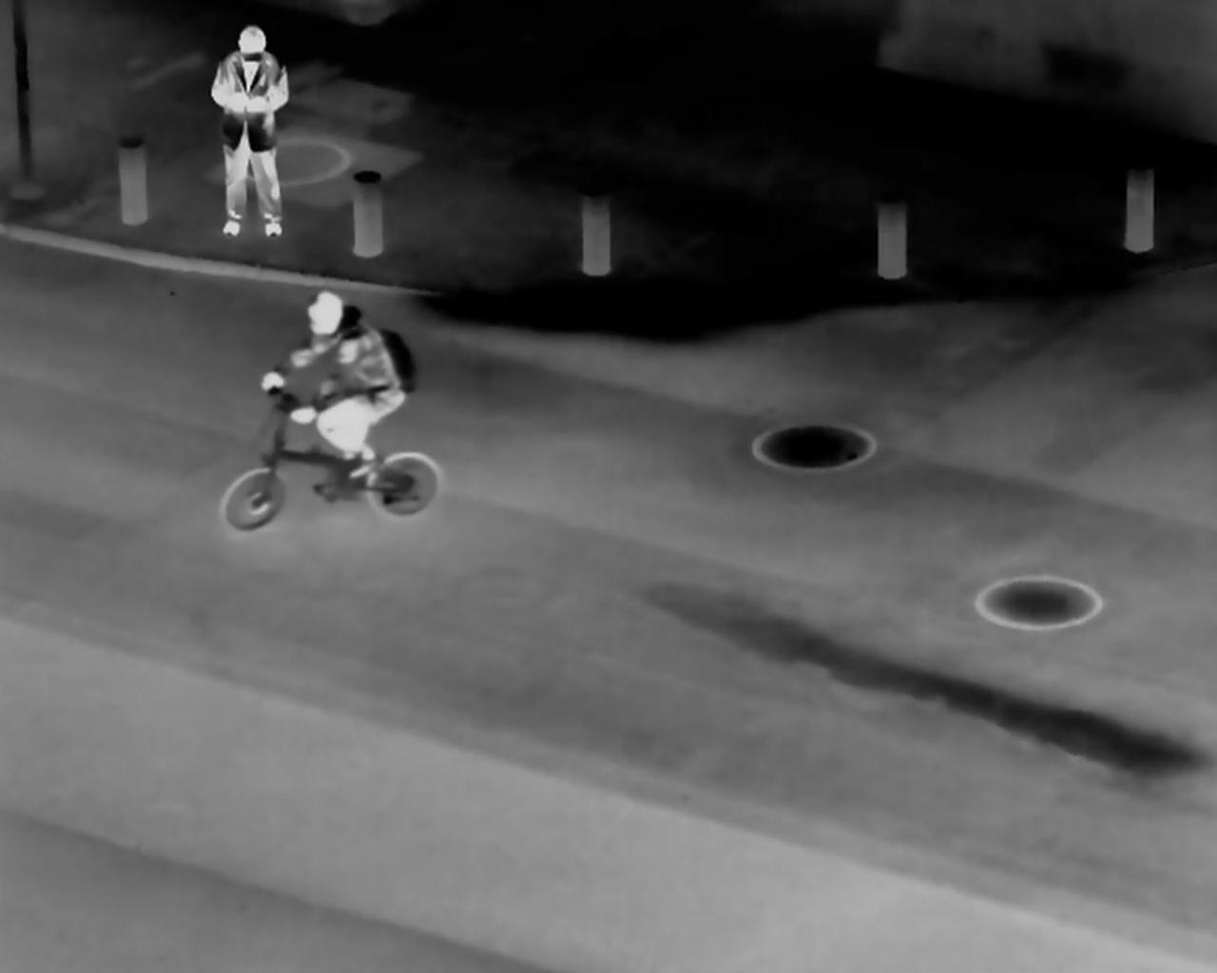person: (257, 267, 403, 491), (199, 18, 308, 246)
